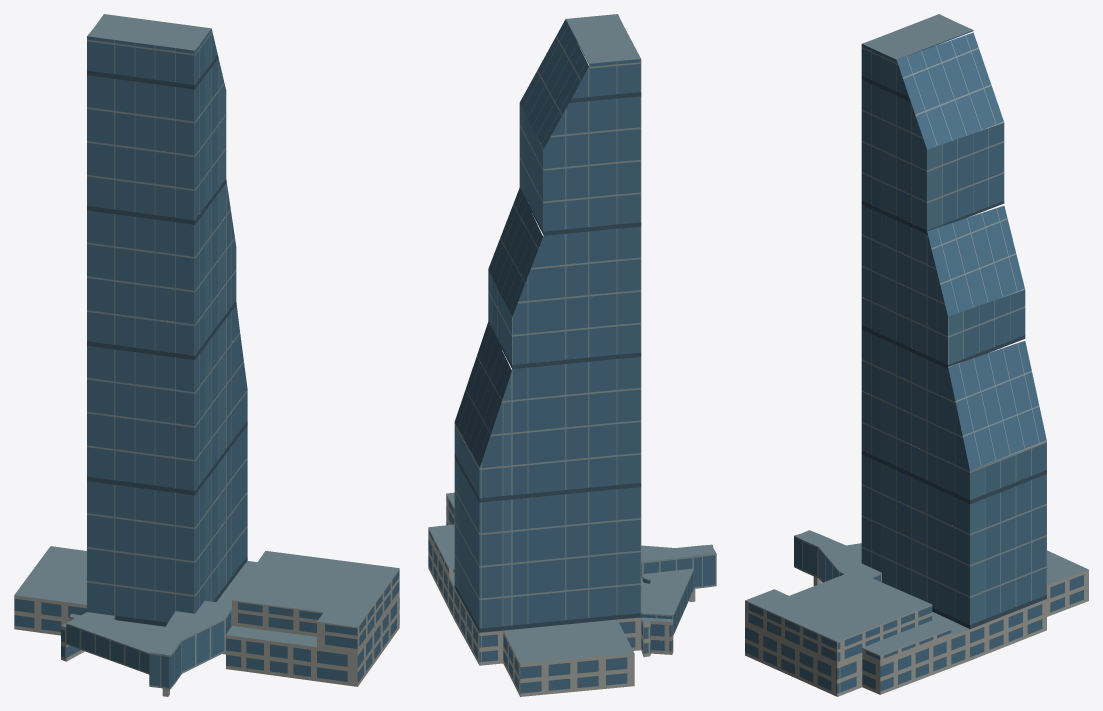
The model's file is biltmore-tbilisi-far.glb.
The picture shows the model from 3 angles, left to right: view 1: azimuth 30°, elevation 25°; view 2: azimuth 150°, elevation 25°; view 3: azimuth 270°, elevation 25°; orthographic projection. The views are drawn at different scales.
Parts seen in each view (by area): view 1: biltmore-tbilisi-0-glass, biltmore-tbilisi-0-roof, biltmore-tbilisi-0-frame, biltmore-tbilisi-0-glass2, biltmore-tbilisi-0-stone, biltmore-tbilisi-0-vent; view 2: biltmore-tbilisi-0-glass, biltmore-tbilisi-0-frame, biltmore-tbilisi-0-roof, biltmore-tbilisi-0-stone, biltmore-tbilisi-0-glass2, biltmore-tbilisi-0-vent; view 3: biltmore-tbilisi-0-glass, biltmore-tbilisi-0-glass2, biltmore-tbilisi-0-roof, biltmore-tbilisi-0-frame, biltmore-tbilisi-0-stone, biltmore-tbilisi-0-vent.
Part boxes in pixels (box(x1,y1,x2,y2)): biltmore-tbilisi-0-glass: box(14, 29, 399, 687); biltmore-tbilisi-0-roof: box(14, 14, 399, 655); biltmore-tbilisi-0-frame: box(66, 29, 247, 689); biltmore-tbilisi-0-glass2: box(204, 29, 225, 601); biltmore-tbilisi-0-stone: box(14, 569, 399, 696); biltmore-tbilisi-0-vent: box(87, 55, 247, 626); biltmore-tbilisi-0-glass: box(428, 19, 715, 693); biltmore-tbilisi-0-frame: box(454, 25, 716, 635); biltmore-tbilisi-0-roof: box(428, 14, 715, 663); biltmore-tbilisi-0-stone: box(428, 494, 695, 696); biltmore-tbilisi-0-glass2: box(454, 55, 588, 626); biltmore-tbilisi-0-vent: box(454, 92, 641, 632); biltmore-tbilisi-0-glass: box(745, 32, 1083, 693); biltmore-tbilisi-0-glass2: box(882, 30, 984, 624); biltmore-tbilisi-0-roof: box(745, 14, 1088, 655); biltmore-tbilisi-0-frame: box(794, 30, 1046, 624); biltmore-tbilisi-0-stone: box(745, 569, 1088, 696); biltmore-tbilisi-0-vent: box(861, 76, 1046, 628).
Bounding box in the file's own units: 68.32 × 138 × 75.85.
